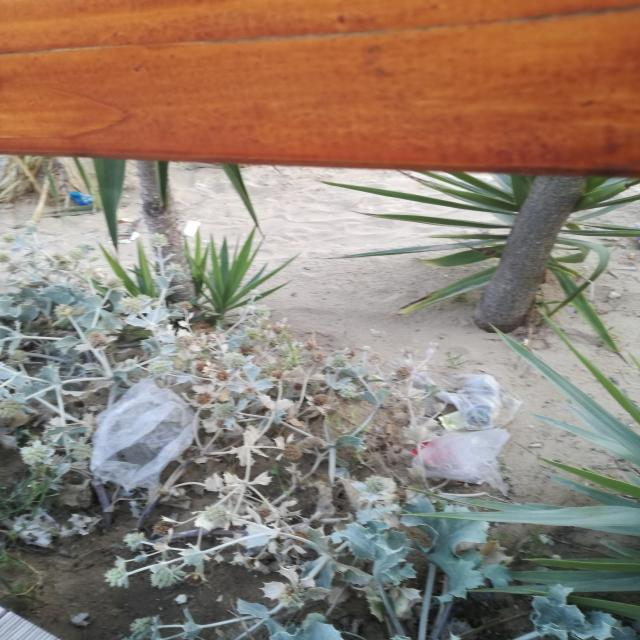litter: (85, 383, 199, 494), (413, 380, 519, 492)
